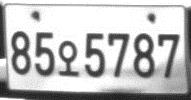5: (83, 32, 105, 78), (34, 31, 55, 76)
7: (107, 32, 130, 79), (157, 33, 181, 78)
8: (133, 33, 155, 78), (10, 30, 31, 75)
오: (56, 39, 79, 77)
